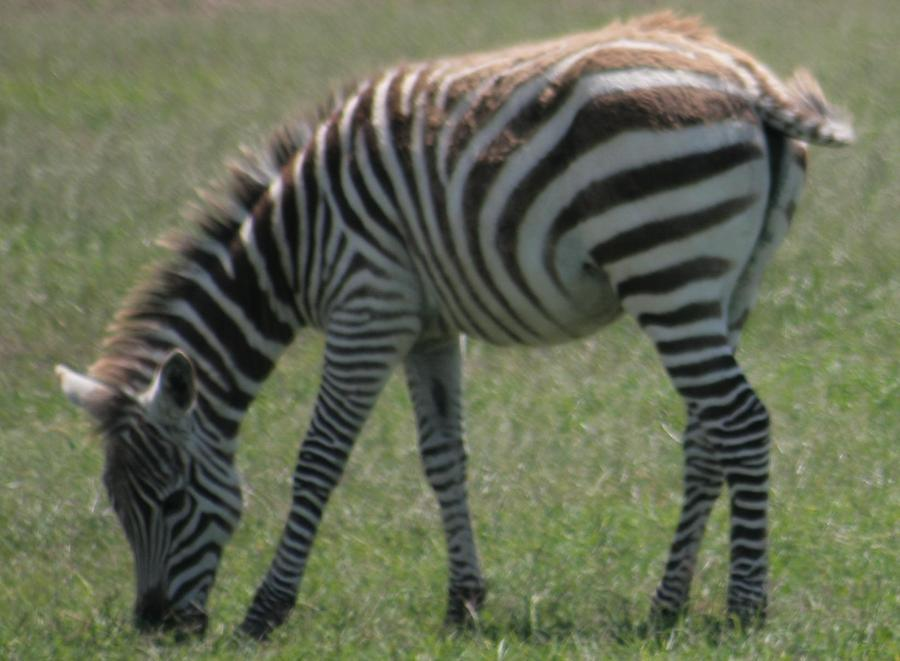zebra_plains: (267, 59, 783, 380)
